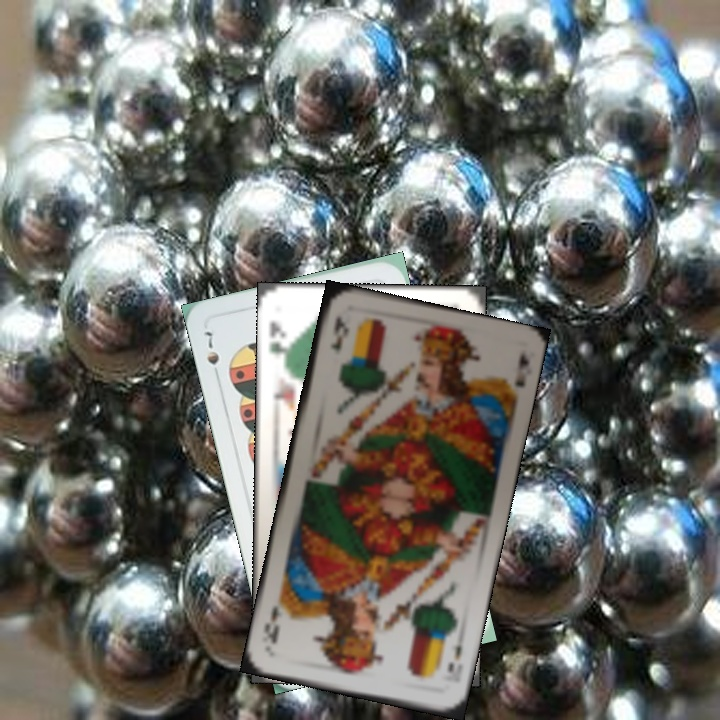EK: (326, 311, 351, 358), (443, 632, 467, 675)
GK: (265, 317, 290, 367)
S7: (200, 327, 223, 383)
